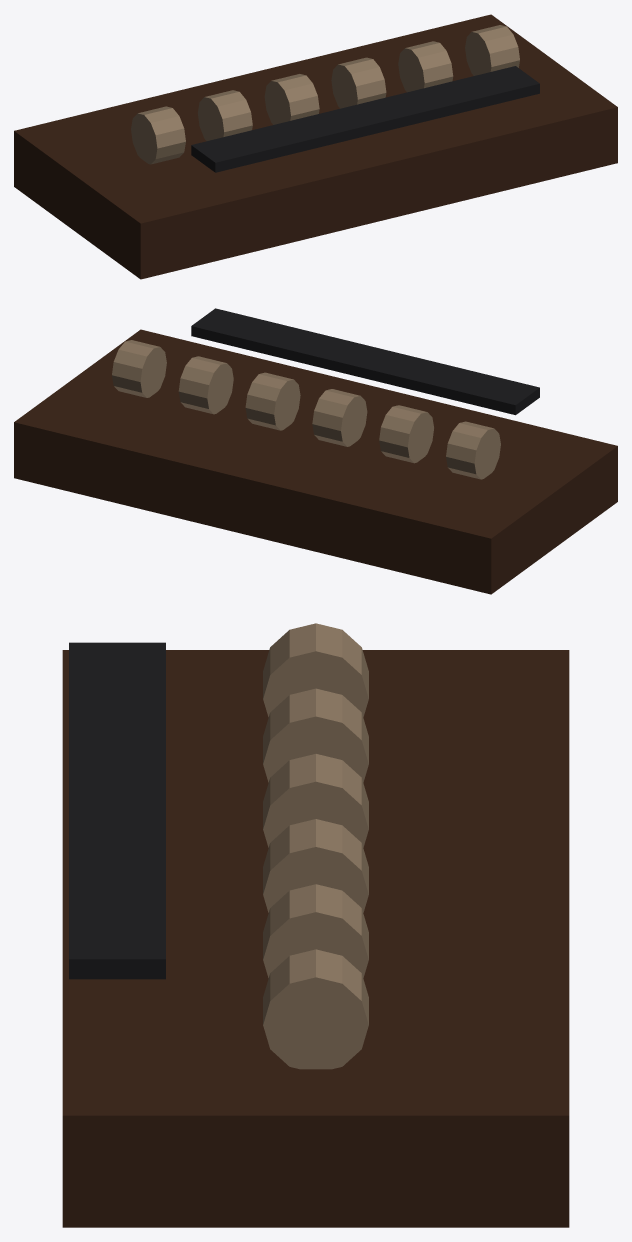
Rendered from GalakasMidCity_VENDOR_ButcherFishTable_01.obj.
3 views of the same model, one above another, from view 1: azimuth 30°, elevation 25°; view 2: azimuth 150°, elevation 25°; view 3: azimuth 270°, elevation 25° (orthographic). The views are drawn at different scales.
Parts seen in each view (by area): view 1: butcher_table, knife_bar, fish_body_0, fish_body_5, fish_body_2, fish_body_3, fish_body_4, fish_body_1, fish_body_0_capA, fish_body_4_capA, fish_body_2_capA, fish_body_3_capA (+2 smaller); view 2: butcher_table, knife_bar, fish_body_2, fish_body_3, fish_body_0, fish_body_4, fish_body_5, fish_body_1, fish_body_4_capA, fish_body_0_capA, fish_body_3_capA, fish_body_5_capA (+2 smaller); view 3: butcher_table, knife_bar, fish_body_5_capB, fish_body_1_capB, fish_body_2_capB, fish_body_4_capB, fish_body_0_capB, fish_body_3_capB, fish_body_1, fish_body_0, fish_body_3, fish_body_4 (+2 smaller).
Boxes of the visible parts, x1,y1,x2,y2 form: butcher_table: [14, 14, 617, 279]; knife_bar: [191, 66, 539, 172]; fish_body_0: [138, 106, 185, 164]; fish_body_5: [472, 25, 519, 71]; fish_body_2: [271, 74, 319, 120]; fish_body_3: [338, 57, 386, 104]; fish_body_4: [405, 41, 453, 88]; fish_body_1: [205, 90, 252, 136]; fish_body_0_capA: [131, 113, 157, 164]; fish_body_4_capA: [398, 48, 424, 92]; fish_body_2_capA: [264, 81, 290, 124]; fish_body_3_capA: [331, 64, 357, 108]; butcher_table: [14, 329, 617, 594]; knife_bar: [191, 308, 539, 415]; fish_body_2: [312, 389, 360, 446]; fish_body_3: [245, 372, 293, 430]; fish_body_0: [446, 421, 493, 479]; fish_body_4: [178, 356, 226, 414]; fish_body_5: [112, 340, 159, 397]; fish_body_1: [379, 405, 426, 462]; fish_body_4_capA: [207, 363, 233, 414]; fish_body_0_capA: [474, 428, 500, 479]; fish_body_3_capA: [274, 379, 300, 430]; fish_body_5_capA: [140, 347, 166, 397]; butcher_table: [62, 650, 569, 1227]; knife_bar: [69, 642, 165, 979]; fish_body_5_capB: [263, 977, 368, 1069]; fish_body_1_capB: [263, 716, 368, 782]; fish_body_2_capB: [263, 781, 368, 847]; fish_body_4_capB: [263, 912, 368, 977]; fish_body_0_capB: [263, 651, 368, 716]; fish_body_3_capB: [263, 847, 368, 912]; fish_body_1: [263, 688, 368, 763]; fish_body_0: [263, 623, 368, 698]; fish_body_3: [263, 819, 368, 894]; fish_body_4: [263, 884, 368, 959].
Size of the model in its own units: 2.5 by 0.51 by 1.15.
